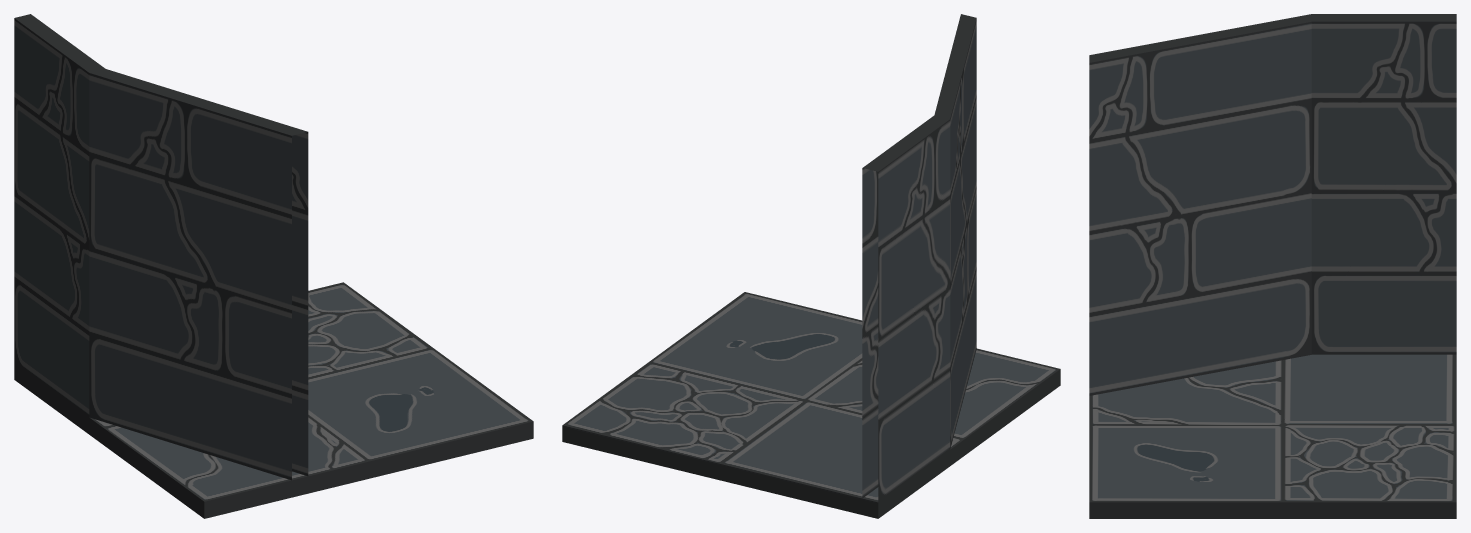
Rendered from Wall-MCURVE-WSW_v1.2.fbx.
3 renders of one model, left to right at view 1: azimuth 30°, elevation 25°; view 2: azimuth 150°, elevation 25°; view 3: azimuth 270°, elevation 25°, orthographic. The views are drawn at different scales.
Visible parts, largest first — view 1: Wall-MCURV-WSW; view 2: Wall-MCURV-WSW; view 3: Wall-MCURV-WSW.
Boxes of the visible parts, bbox=[...] form: Wall-MCURV-WSW: bbox=[14, 14, 533, 518]; Wall-MCURV-WSW: bbox=[562, 14, 1060, 518]; Wall-MCURV-WSW: bbox=[1089, 14, 1456, 518].
Bounding box in the file's own units: 100 × 100 × 105.
